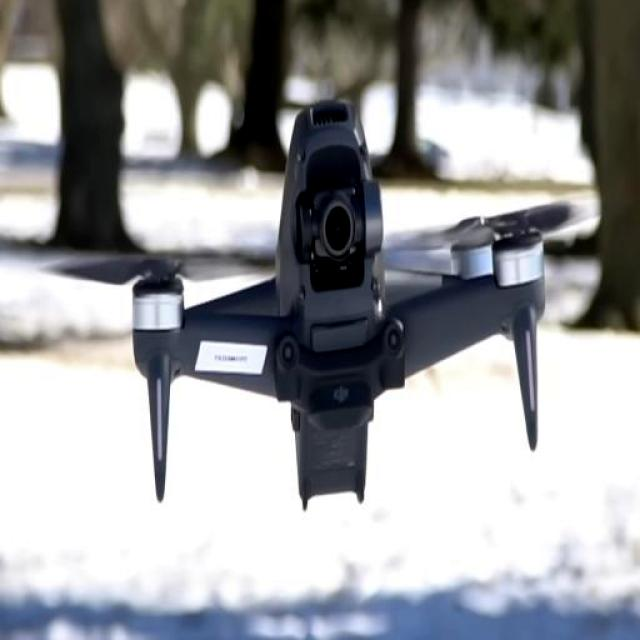bird: (74, 69, 581, 511)
